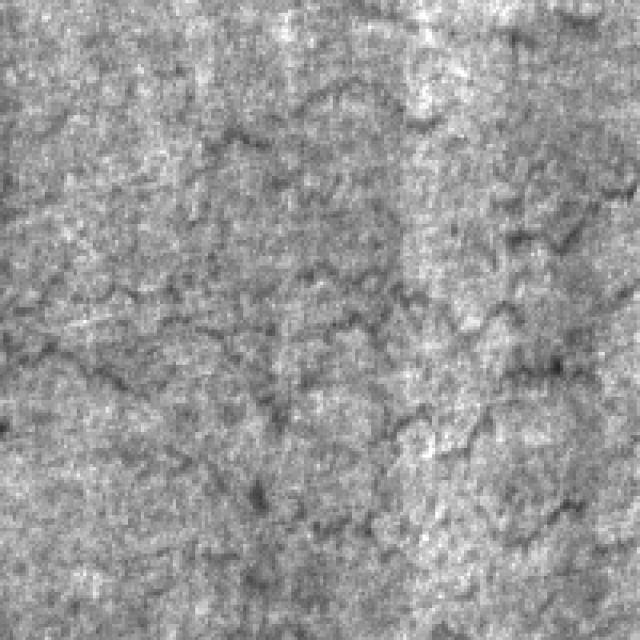crazing: (0, 256, 586, 509)
